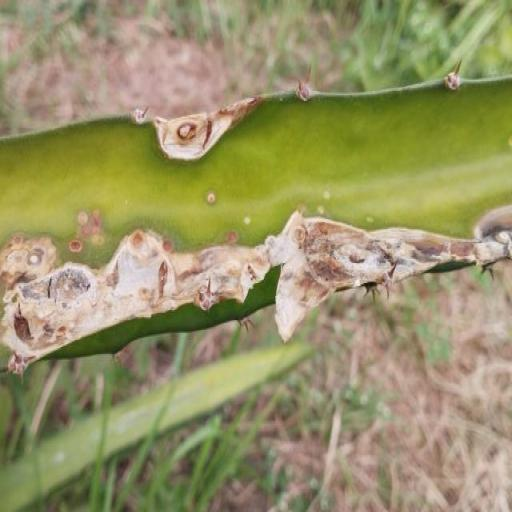stemcanker: (202, 187, 219, 213), (74, 208, 90, 227), (320, 187, 335, 203), (363, 210, 378, 226), (240, 211, 252, 230), (314, 203, 326, 219)
